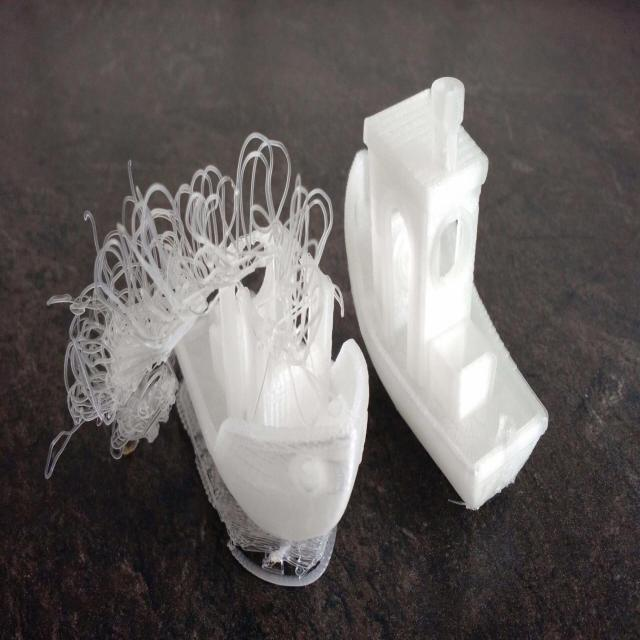Spaghetti: (41, 122, 337, 548)
